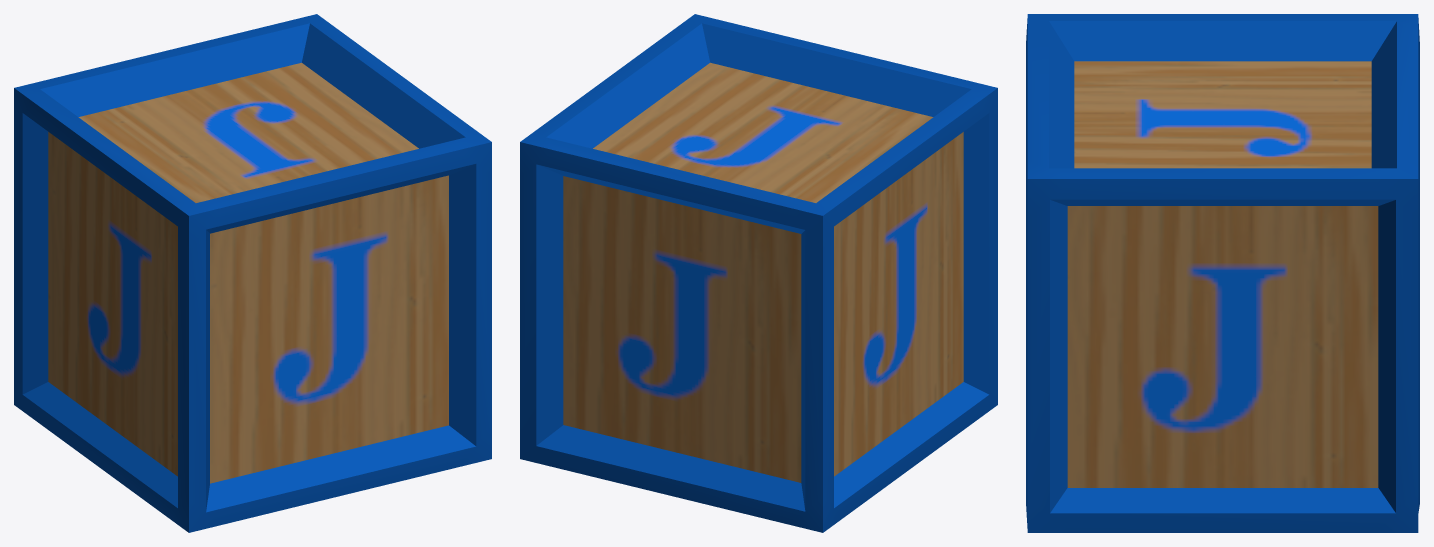
File: Letter_J.fbx
3 renders of one model, left to right at view 1: azimuth 30°, elevation 25°; view 2: azimuth 150°, elevation 25°; view 3: azimuth 270°, elevation 25°, orthographic. The views are drawn at different scales.
Parts seen in each view (by area): view 1: LetterBlock_J; view 2: LetterBlock_J; view 3: LetterBlock_J.
Boxes of the visible parts, bbox=[...] form: LetterBlock_J: bbox=[14, 14, 491, 532]; LetterBlock_J: bbox=[520, 14, 997, 532]; LetterBlock_J: bbox=[1026, 14, 1419, 532].
Bounding box in the file's own units: 0.1209 × 0.1213 × 0.121.
1 material, 1 textured.
